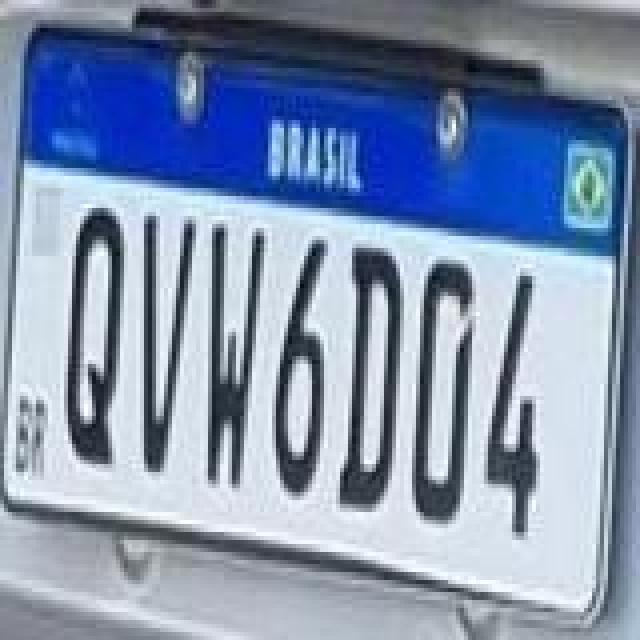4: (484, 272, 540, 544)
6: (270, 236, 330, 500)
D: (334, 240, 402, 512), (412, 256, 476, 528)
Q: (66, 204, 126, 468)
V: (140, 212, 196, 476)
W: (204, 218, 268, 494)
